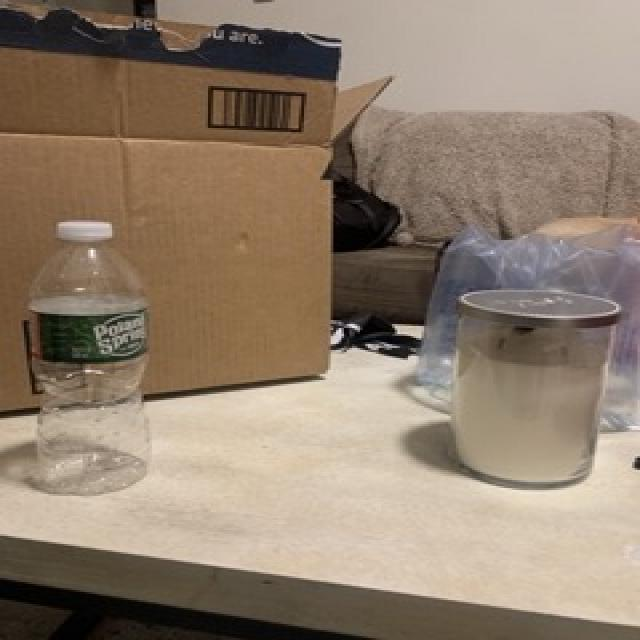water_bottle: (23, 218, 154, 490)
